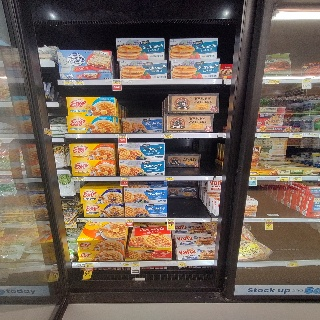All PRICE TAGS: (285, 261, 299, 267), (265, 79, 279, 84), (162, 133, 173, 138), (73, 177, 86, 181), (290, 177, 302, 181), (290, 133, 302, 137), (258, 133, 270, 137), (64, 80, 73, 85), (277, 177, 288, 181), (75, 80, 83, 85), (302, 79, 311, 83), (112, 80, 121, 84), (118, 134, 127, 138), (165, 176, 173, 180), (167, 218, 175, 222), (86, 263, 94, 267), (178, 262, 186, 266), (266, 218, 273, 222), (132, 262, 139, 266), (83, 218, 92, 221), (121, 177, 129, 180), (126, 219, 134, 222), (249, 177, 256, 180)
